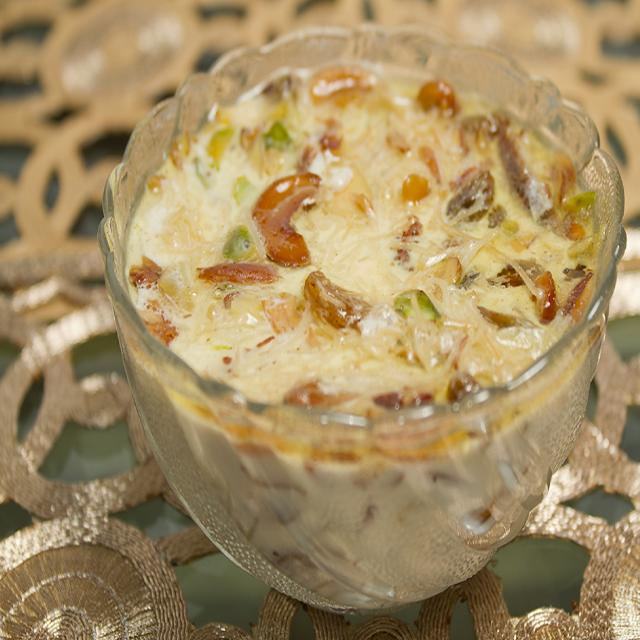shavige payasa: (107, 25, 610, 432)
